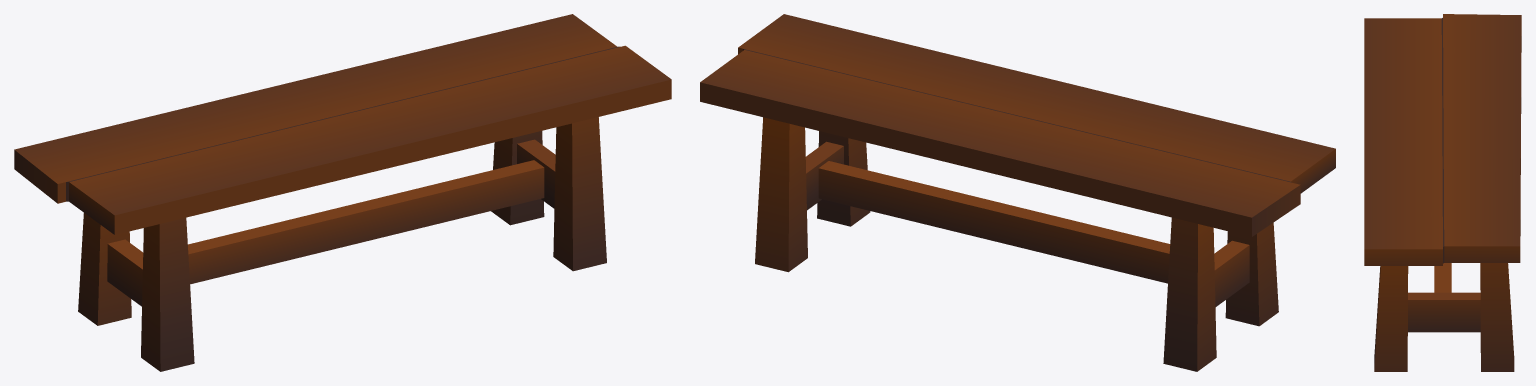
The model's file is SmallBench.fbx.
The picture shows the model from 3 angles, left to right: view 1: azimuth 30°, elevation 25°; view 2: azimuth 150°, elevation 25°; view 3: azimuth 270°, elevation 25°; orthographic projection. The views are drawn at different scales.
Visible parts, largest first — view 1: SmallBench; view 2: SmallBench; view 3: SmallBench.
Part boxes in pixels (bbox=[...]): SmallBench: bbox=[14, 14, 671, 371]; SmallBench: bbox=[700, 14, 1335, 371]; SmallBench: bbox=[1364, 14, 1521, 371].
Size of the model in its own units: 124 by 36.16 by 35.
